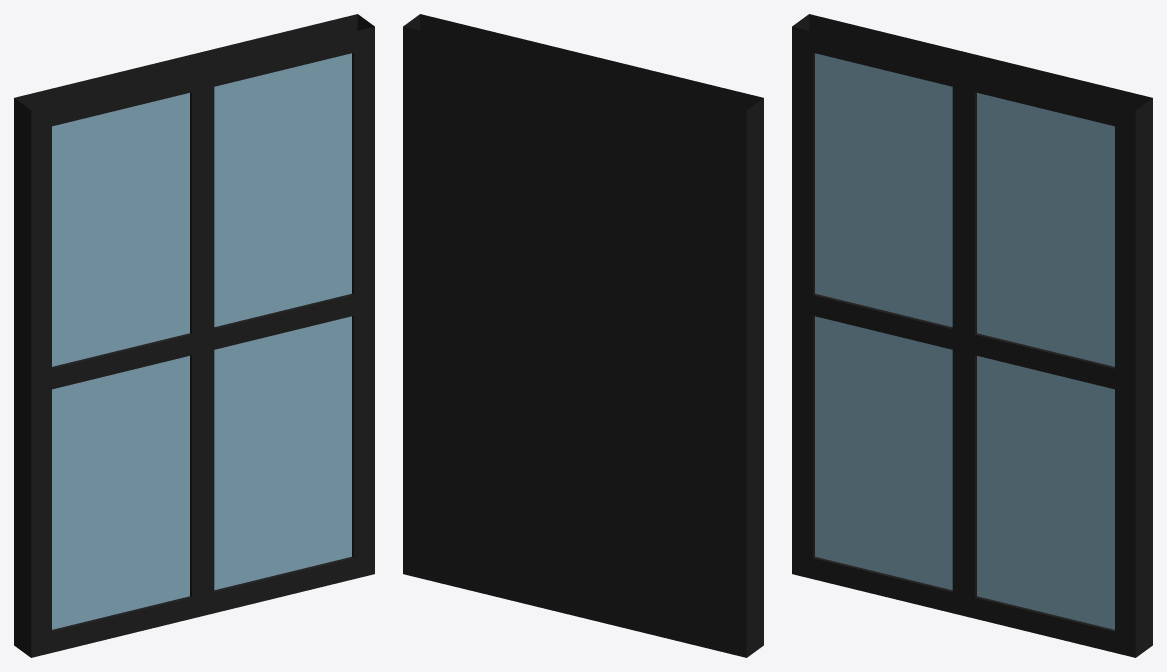
File: SM_Window.FBX
3 views of the same model, side by side, from view 1: azimuth 30°, elevation 25°; view 2: azimuth 150°, elevation 25°; view 3: azimuth 330°, elevation 25° (orthographic).
Parts seen in each view (by area): view 1: window001; view 2: window001; view 3: window001.
Boxes of the visible parts, x1,y1,x2,y2 form: window001: (14, 14, 374, 657); window001: (403, 14, 763, 657); window001: (792, 14, 1152, 657).
Bounding box in the file's own units: 39.45 × 60.06 × 3.41.
